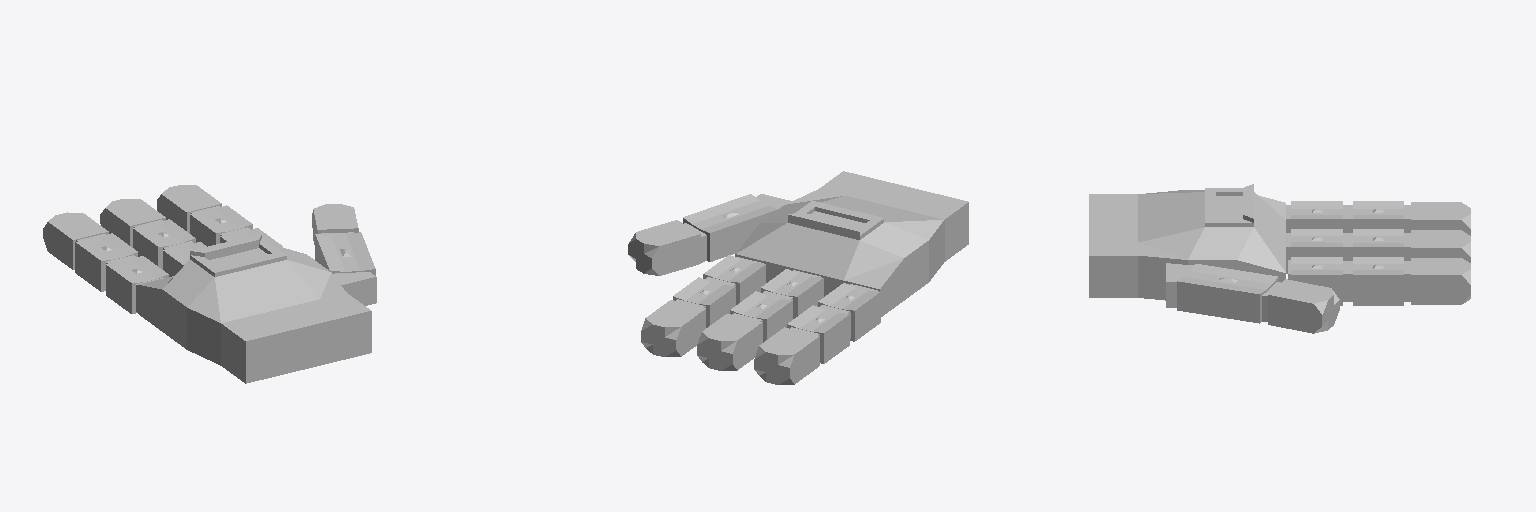
The model's file is left hand obj.obj.
3 views of the same model, side by side, from view 1: azimuth 30°, elevation 25°; view 2: azimuth 150°, elevation 25°; view 3: azimuth 270°, elevation 25° (orthographic).
Parts seen in each view (by area): view 1: Box003, Box020, Box007, Box008, Box009, Box014, Box013, Box016, Box012, Box019, Box021, Box017; view 2: Box003, Box020, Box019, Box007, Box014, Box013, Box009, Box008, Box016, Box017, Box012, Box011; view 3: Box003, Box020, Box019, Box013, Box012, Box007, Box014, Box011, Box009, Box017, Box008, Box016 (+4 smaller).
Boxes of the visible parts, x1,y1,x2,y2 form: Box003: [138, 233, 371, 383]; Box020: [315, 232, 375, 275]; Box007: [43, 212, 108, 269]; Box008: [75, 233, 137, 291]; Box009: [106, 256, 168, 313]; Box014: [100, 199, 165, 247]; Box013: [157, 185, 221, 233]; Box016: [133, 219, 195, 269]; Box012: [190, 205, 252, 246]; Box019: [312, 204, 358, 244]; Box021: [333, 272, 376, 305]; Box017: [163, 242, 206, 276]; Box003: [735, 171, 968, 316]; Box020: [683, 194, 777, 261]; Box019: [628, 220, 700, 275]; Box007: [754, 327, 819, 384]; Box014: [697, 314, 762, 370]; Box013: [641, 300, 705, 356]; Box009: [818, 283, 880, 341]; Box008: [787, 305, 849, 363]; Box016: [730, 291, 792, 342]; Box017: [761, 269, 823, 318]; Box012: [673, 277, 735, 327]; Box011: [703, 255, 765, 304]; Box003: [1089, 184, 1285, 300]; Box020: [1177, 264, 1278, 323]; Box019: [1268, 279, 1339, 333]; Box013: [1411, 258, 1470, 304]; Box012: [1353, 257, 1403, 305]; Box007: [1411, 202, 1470, 235]; Box014: [1411, 230, 1470, 262]; Box011: [1291, 257, 1342, 305]; Box009: [1291, 201, 1342, 228]; Box017: [1291, 229, 1342, 256]; Box008: [1353, 201, 1403, 228]; Box016: [1353, 229, 1403, 256].
Size of the model in its own units: 76.07 by 20.73 by 106.